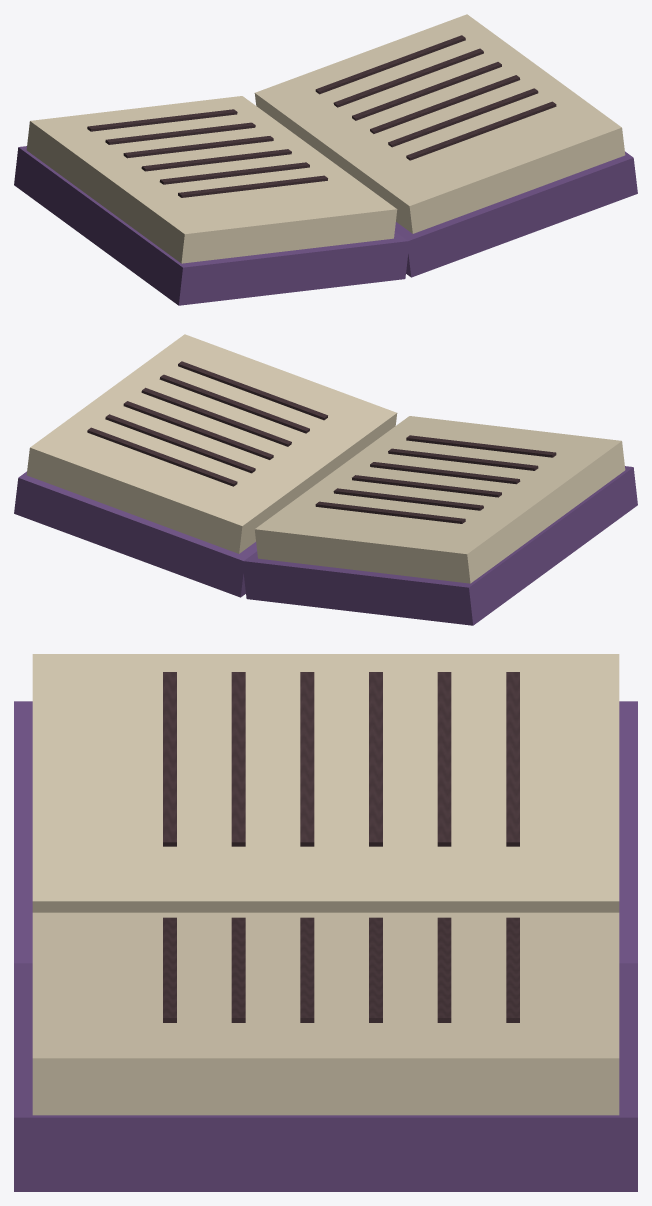
File: floating-open-book.glb
The picture shows the model from 3 angles, top to bottom: view 1: azimuth 30°, elevation 25°; view 2: azimuth 150°, elevation 25°; view 3: azimuth 270°, elevation 25°; orthographic projection. The views are drawn at different scales.
Visible parts, largest first — view 1: FloatingOpenBook_paper, FloatingOpenBook_violet, FloatingOpenBook_wood; view 2: FloatingOpenBook_paper, FloatingOpenBook_violet, FloatingOpenBook_wood; view 3: FloatingOpenBook_paper, FloatingOpenBook_violet, FloatingOpenBook_wood.
Part boxes in pixels (x1,y1,x2,y2): FloatingOpenBook_paper: (26, 14, 625, 263); FloatingOpenBook_violet: (14, 146, 637, 305); FloatingOpenBook_wood: (87, 35, 556, 197); FloatingOpenBook_paper: (26, 334, 625, 583); FloatingOpenBook_violet: (14, 466, 637, 625); FloatingOpenBook_wood: (87, 361, 556, 523); FloatingOpenBook_paper: (32, 654, 619, 1115); FloatingOpenBook_violet: (14, 701, 637, 1191); FloatingOpenBook_wood: (163, 672, 519, 1022).
Size of the model in its own units: 0.5793 by 0.1202 by 0.36.
3 materials, 1 textured.
